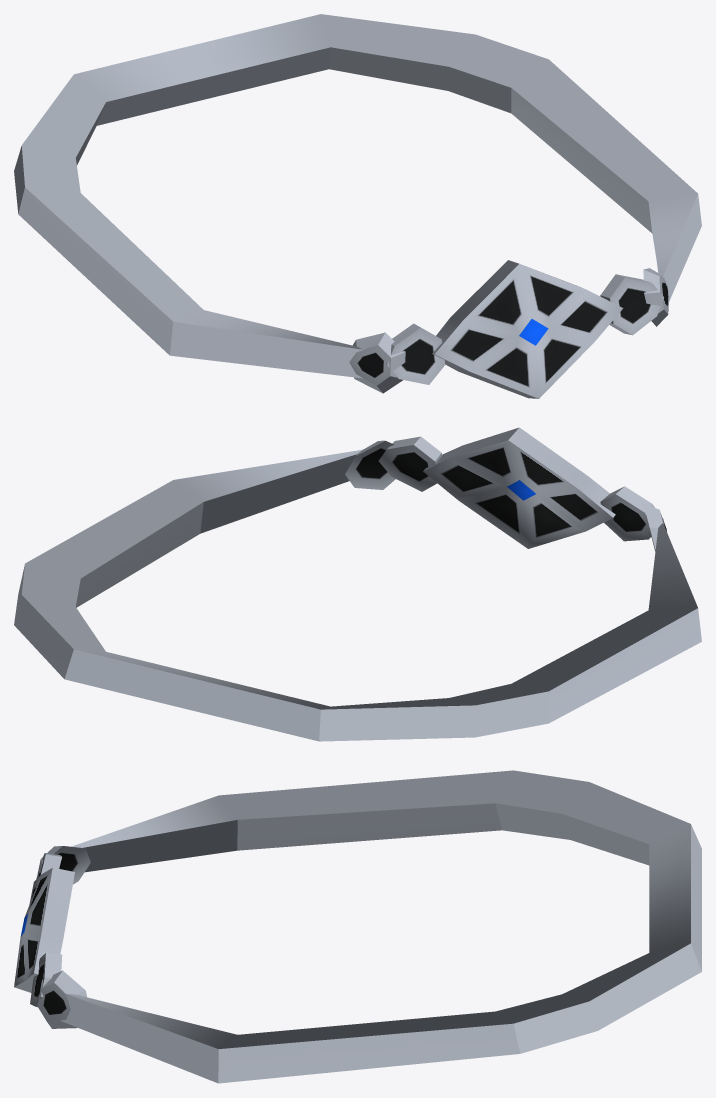
File: pk-polysplit-heroes-circlet-m.glb
3 renders of one model, top to bottom at view 1: azimuth 30°, elevation 25°; view 2: azimuth 150°, elevation 25°; view 3: azimuth 270°, elevation 25°, orthographic.
Parts seen in each view (by area): view 1: Circlet_M; view 2: Circlet_M; view 3: Circlet_M.
Boxes of the visible parts, x1,y1,x2,y2 form: Circlet_M: (14, 14, 701, 398); Circlet_M: (14, 427, 701, 741); Circlet_M: (14, 770, 701, 1083).
Bounding box in the file's own units: 0.2318 × 0.0533 × 0.262.
1 material, 1 textured.
